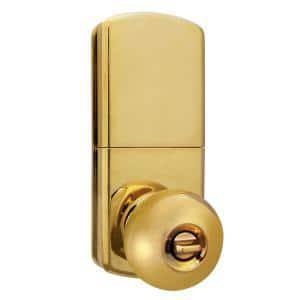doorhandle: (78, 139, 272, 287)
